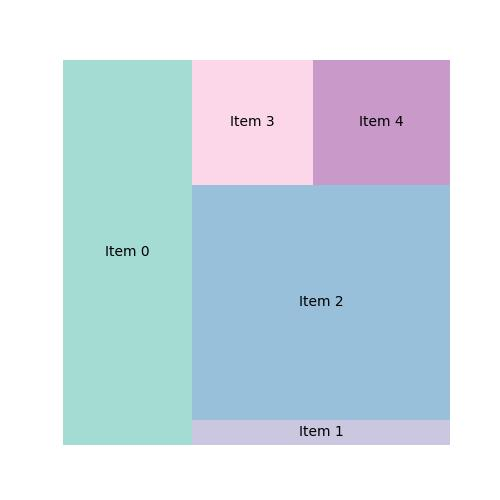rectangle: (193, 186, 451, 420), (63, 60, 193, 445), (314, 60, 451, 186), (194, 60, 314, 185), (192, 419, 451, 446)
